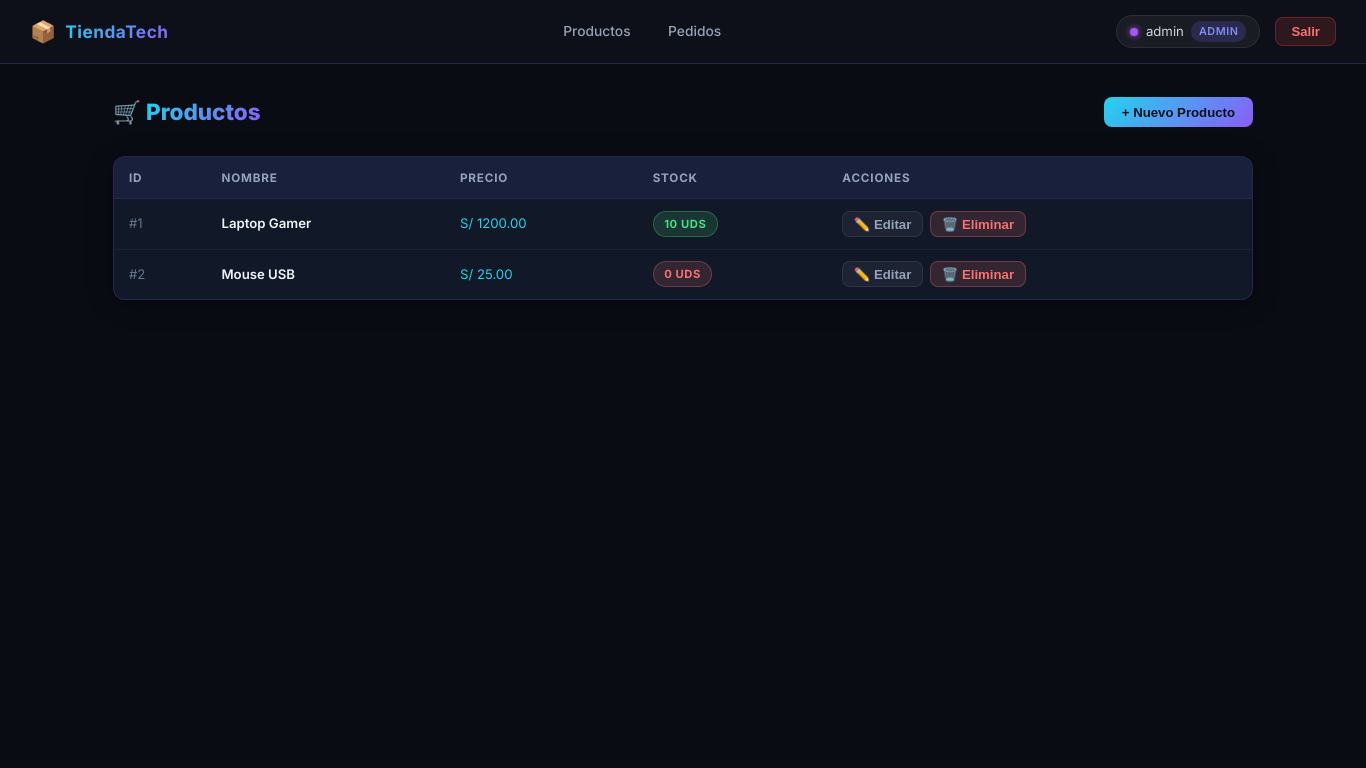
Test: ProductsPage - Pruebas de CRUD y Validaciones › valida campos obligatorios y rechaza stock decimal o negativo
Expected: the text "Laptop Gamer" is shown, [206, 199, 445, 249]
Click the button "+ Nuevo Producto" at (1178, 112), box [1104, 97, 1253, 127]
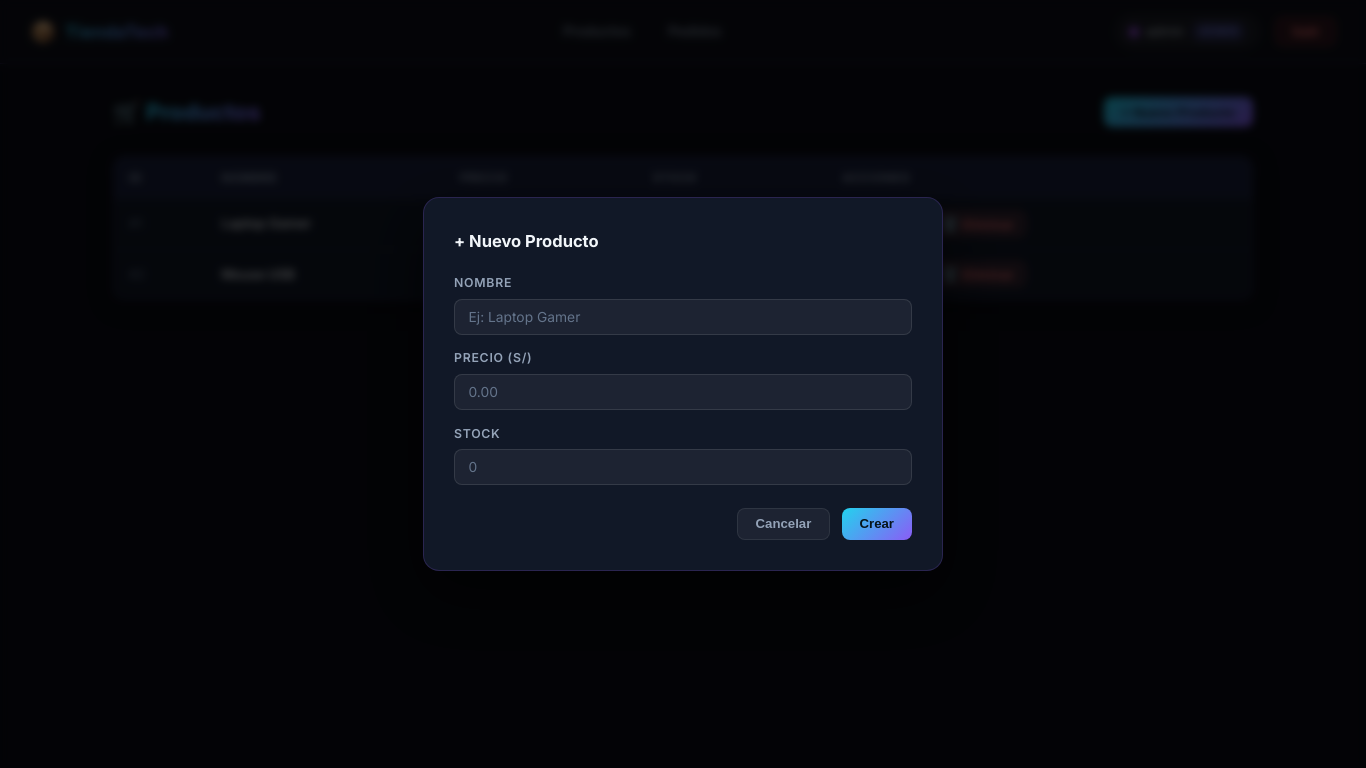
# Guardar vacío
Click the button "Crear" at (877, 524), box [842, 508, 912, 540]
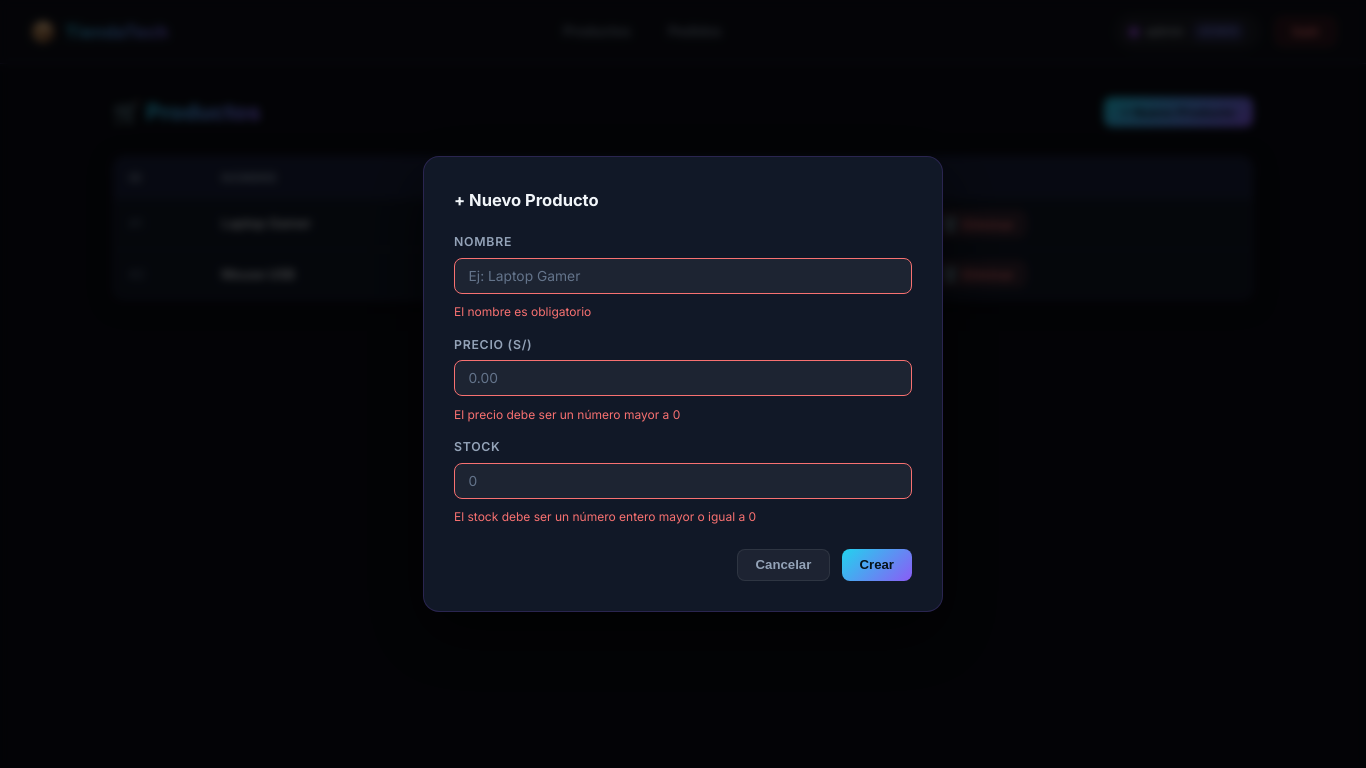
Now the text "El nombre es obligatorio" is shown, box [454, 304, 591, 319]
Now the text "El precio debe ser un número mayor a 0" is shown, box [454, 407, 680, 422]
Now the text "El stock debe ser un número entero mayor o igual a 0" is shown, box [454, 509, 756, 524]
Type "Teclado Mecanico" into the field labelled "Nombre" at (683, 276), box [454, 258, 912, 294]
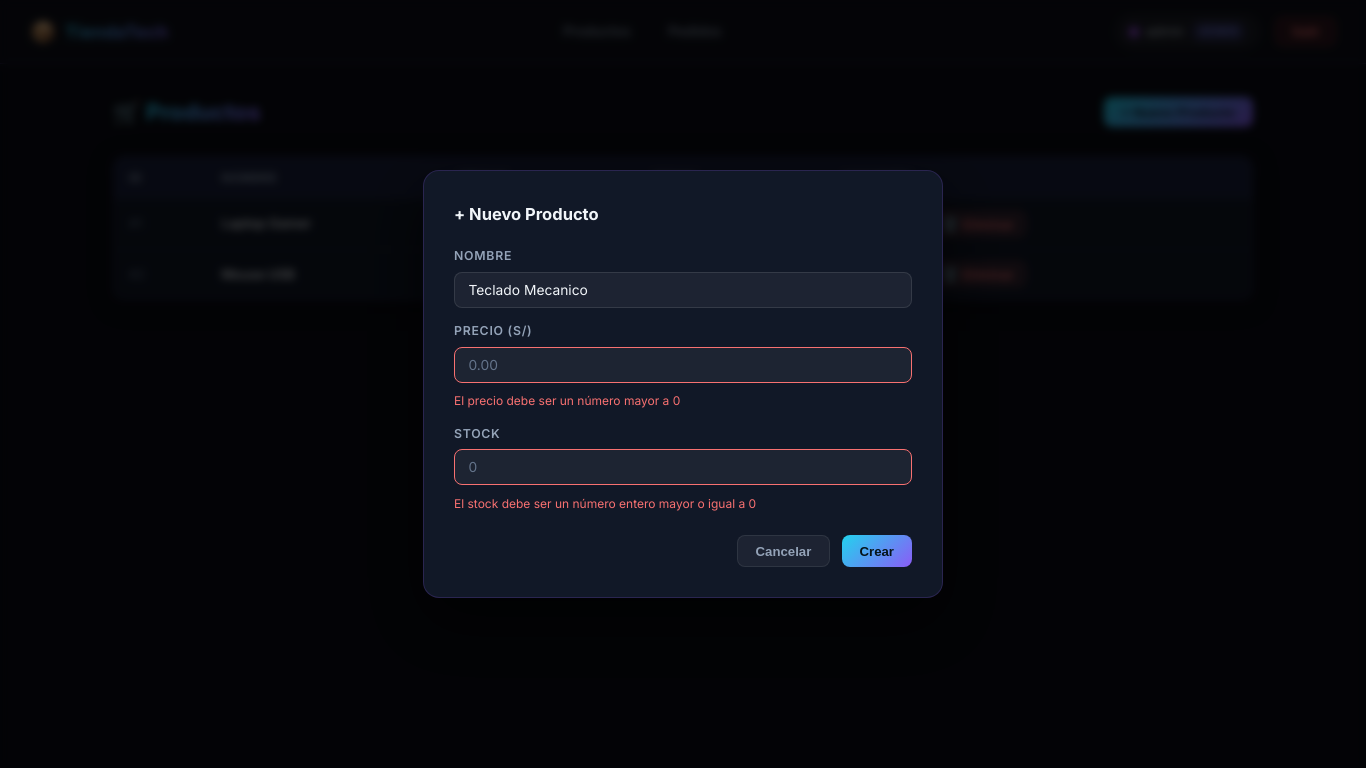
Type "80" into the number field labelled "Precio (S/)" at (683, 365), box [454, 347, 912, 383]
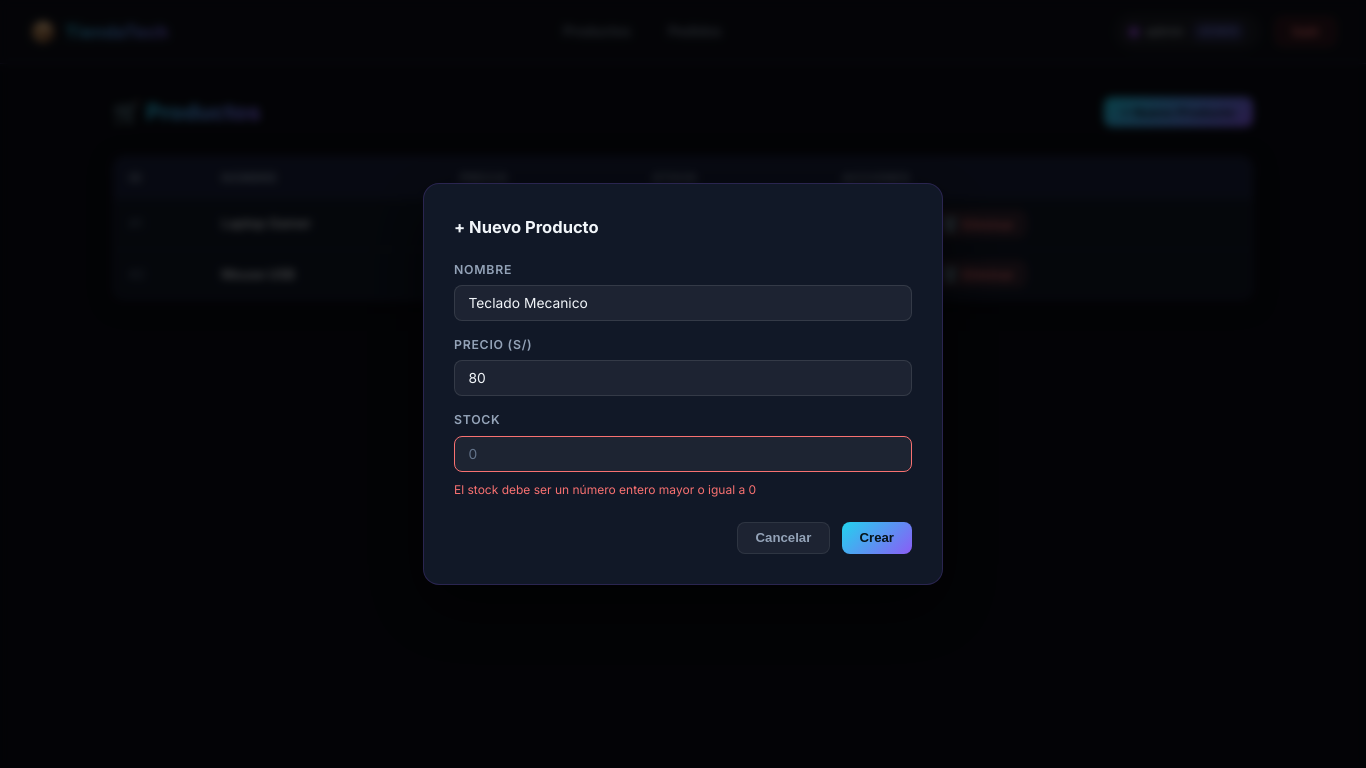
Type "2.5" into the number field labelled "Stock" at (683, 454), box [454, 436, 912, 472]
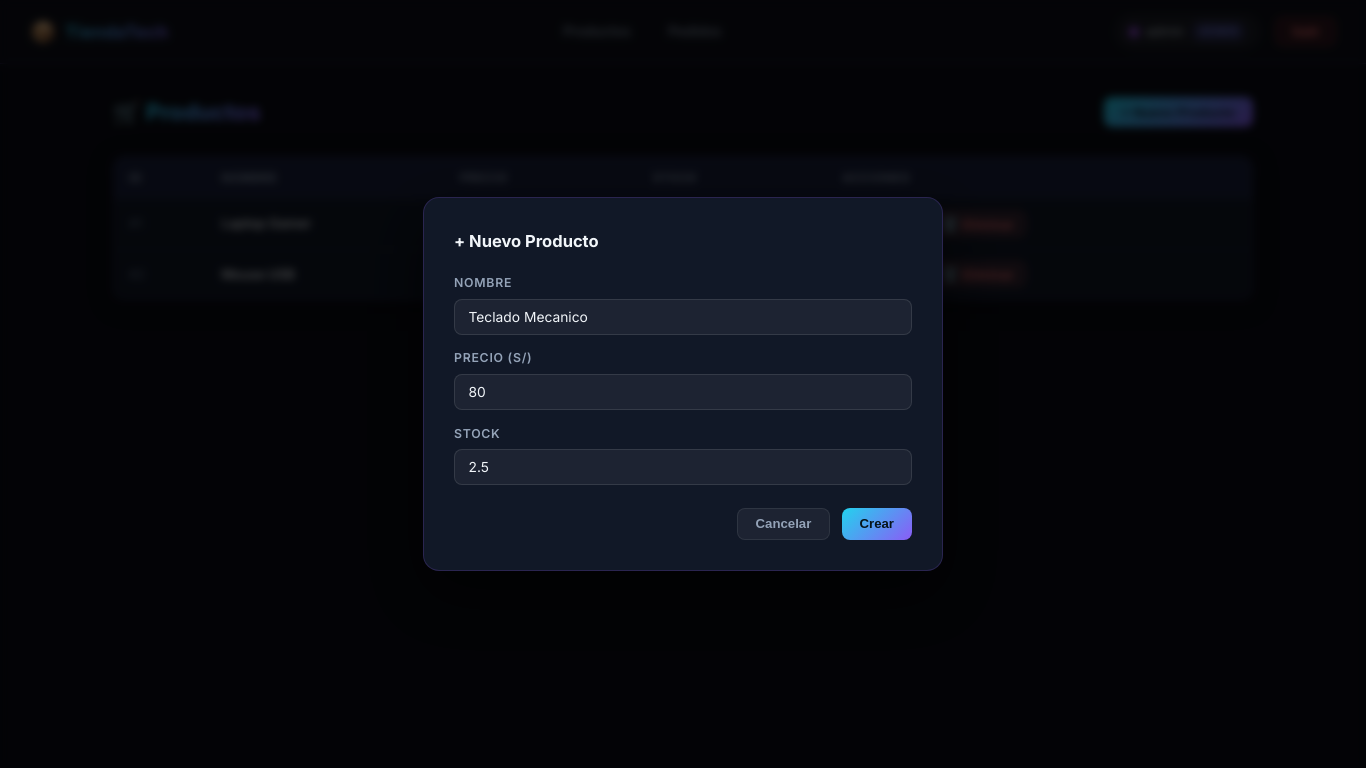
Click the button "Crear" at (877, 524), box [842, 508, 912, 540]
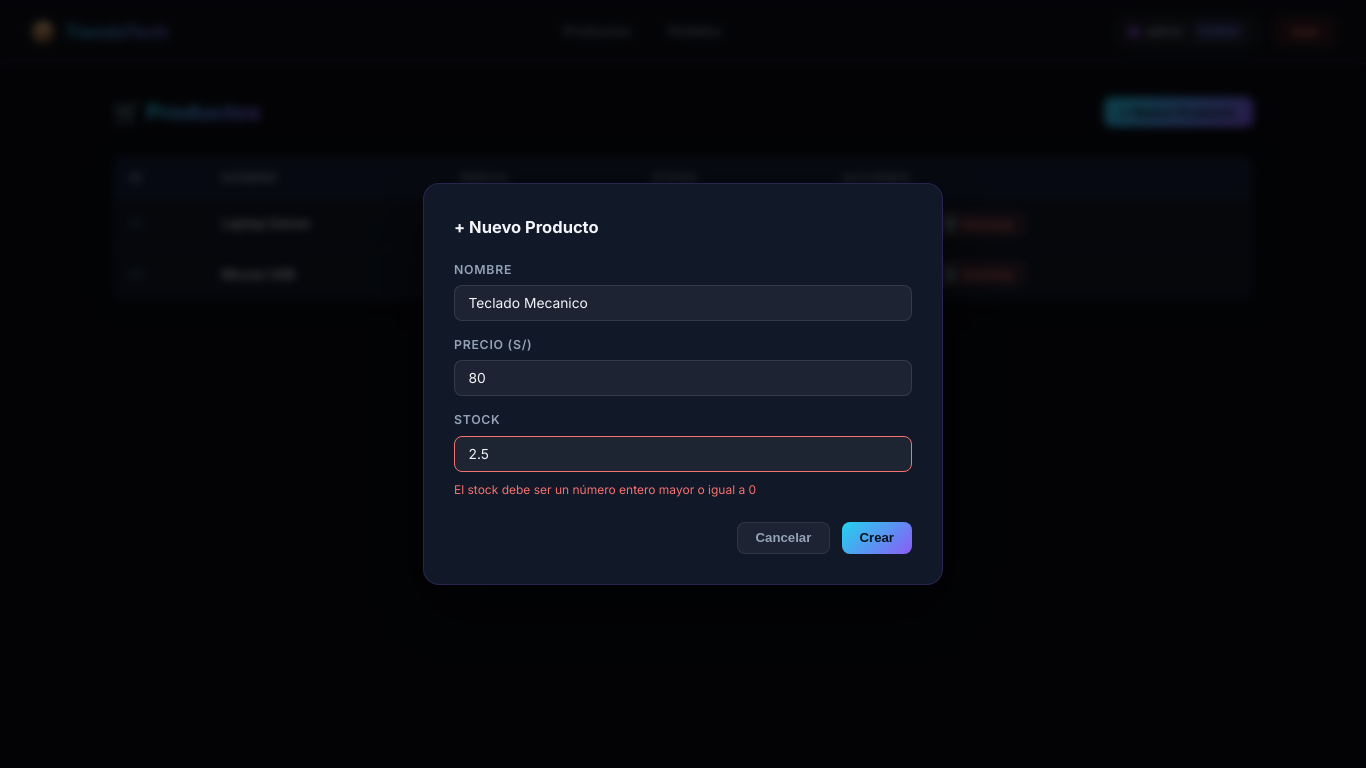
Now the text "El stock debe ser un número entero mayor o igual a 0" is shown, box [454, 482, 756, 497]
